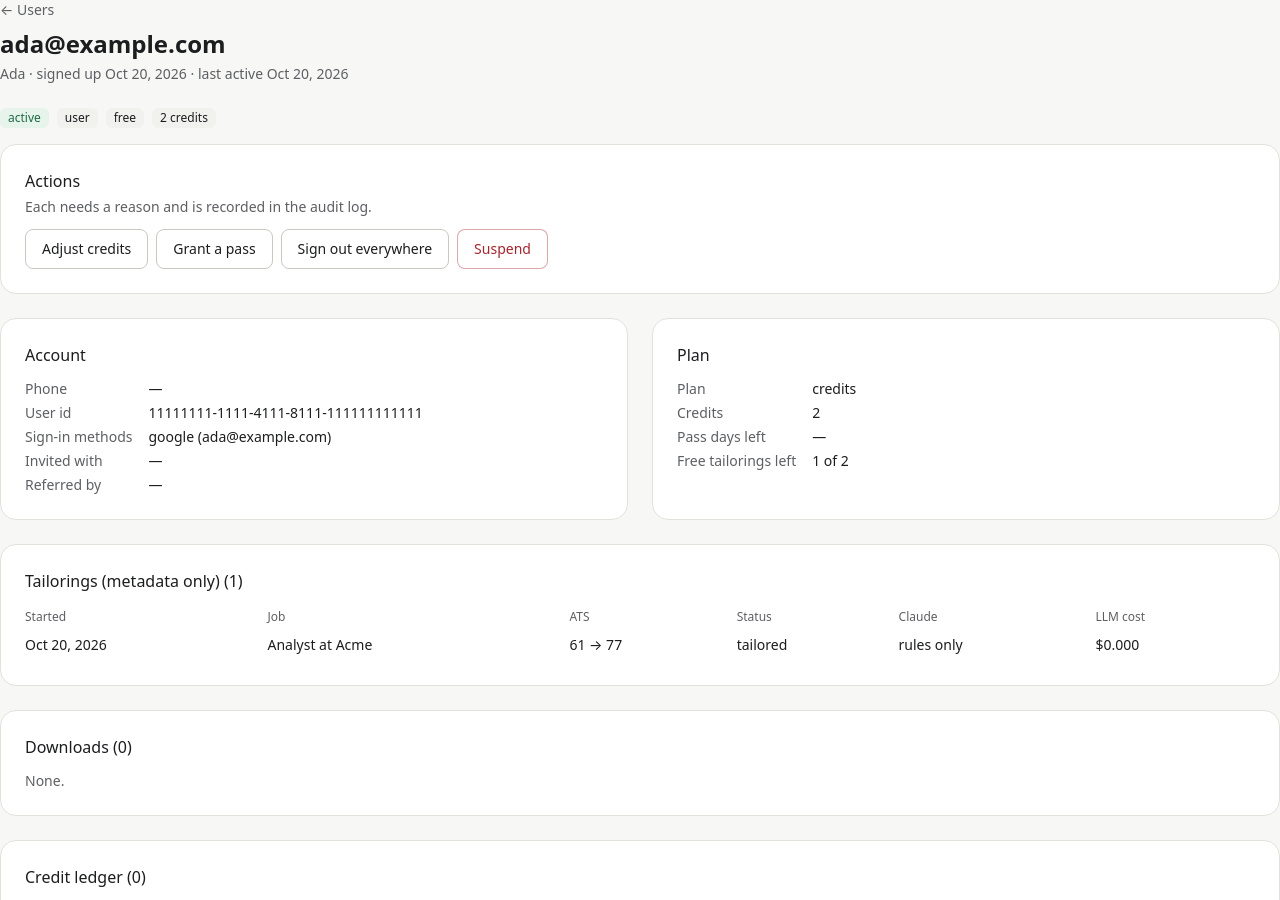
Test case: users › adjusts credits with a reason
Expected: the text "Analyst at Acme" is shown, [268,629,570,661]
Expected: the text "61 → 77" is shown, [570,629,737,661]
Step 1. Click the button "Adjust credits" → point(87, 249), box [25,229,148,269]
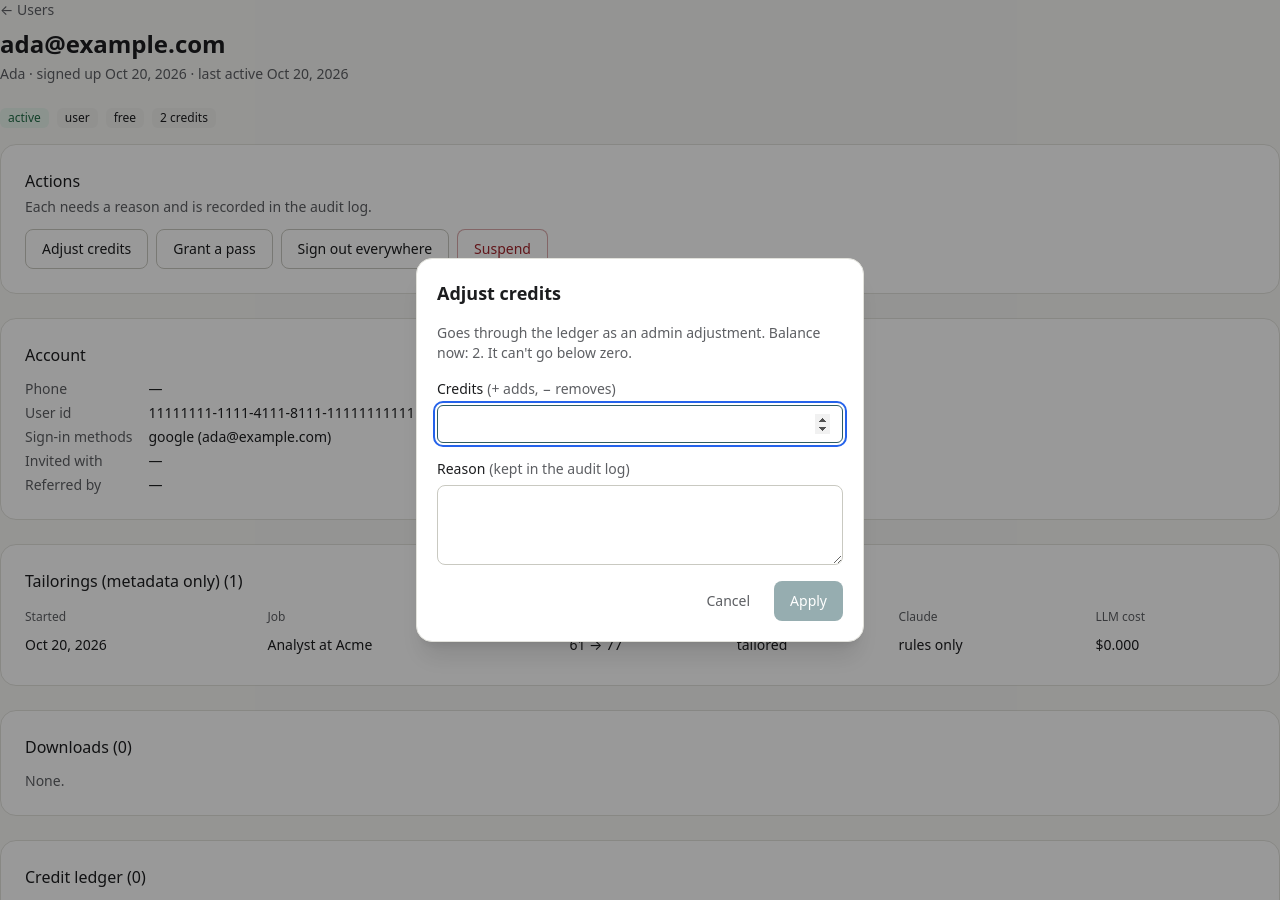
Step 2. Type "5" into the number field labelled "Credits(+ adds, − removes)" → point(640, 424), box [437,405,843,443]
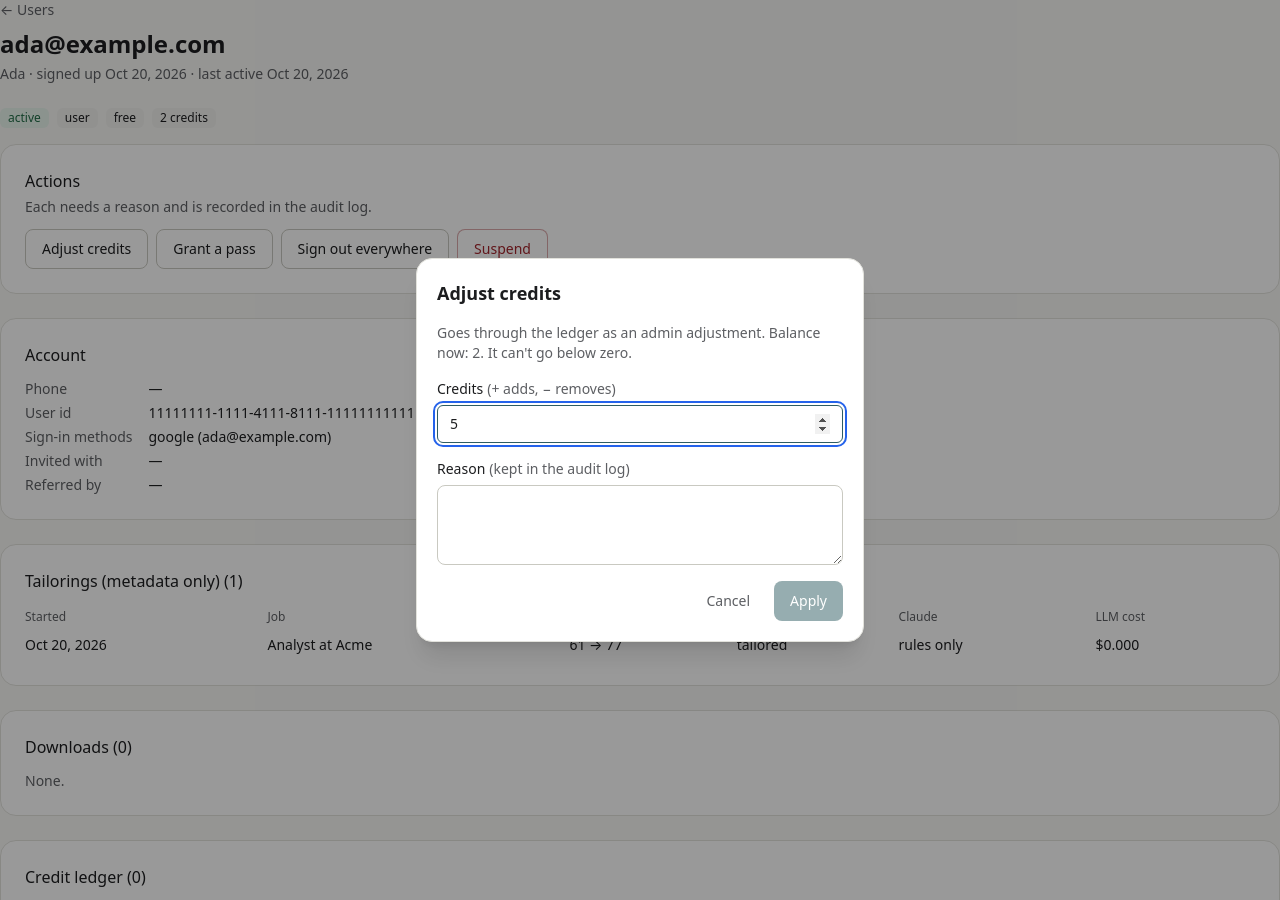
Step 3. Type "goodwill" into the text box labelled "Reason(kept in the audit log)" → point(640, 525), box [437,485,843,565]
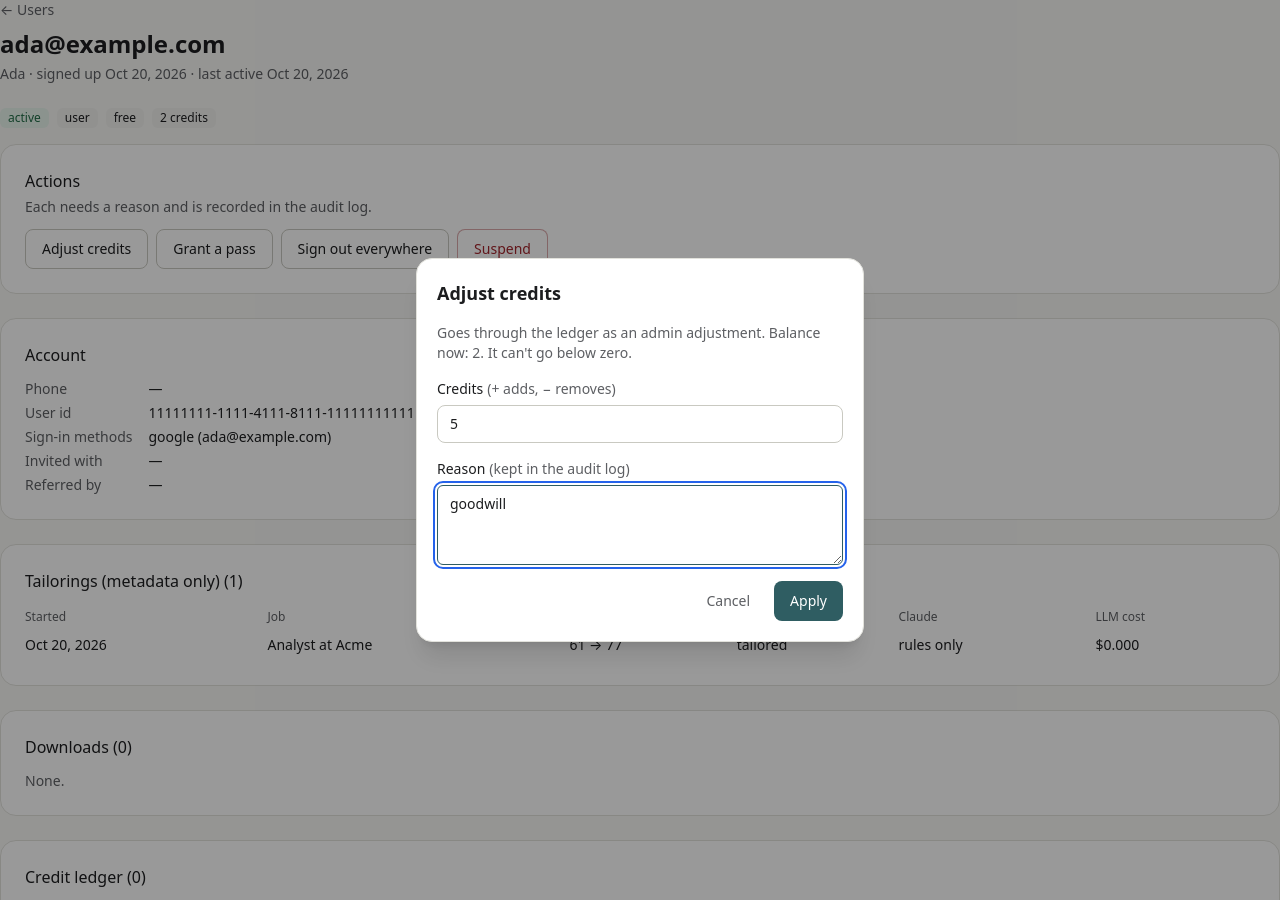
Step 4. Click the button "Apply" → point(809, 601), box [774,581,843,621]
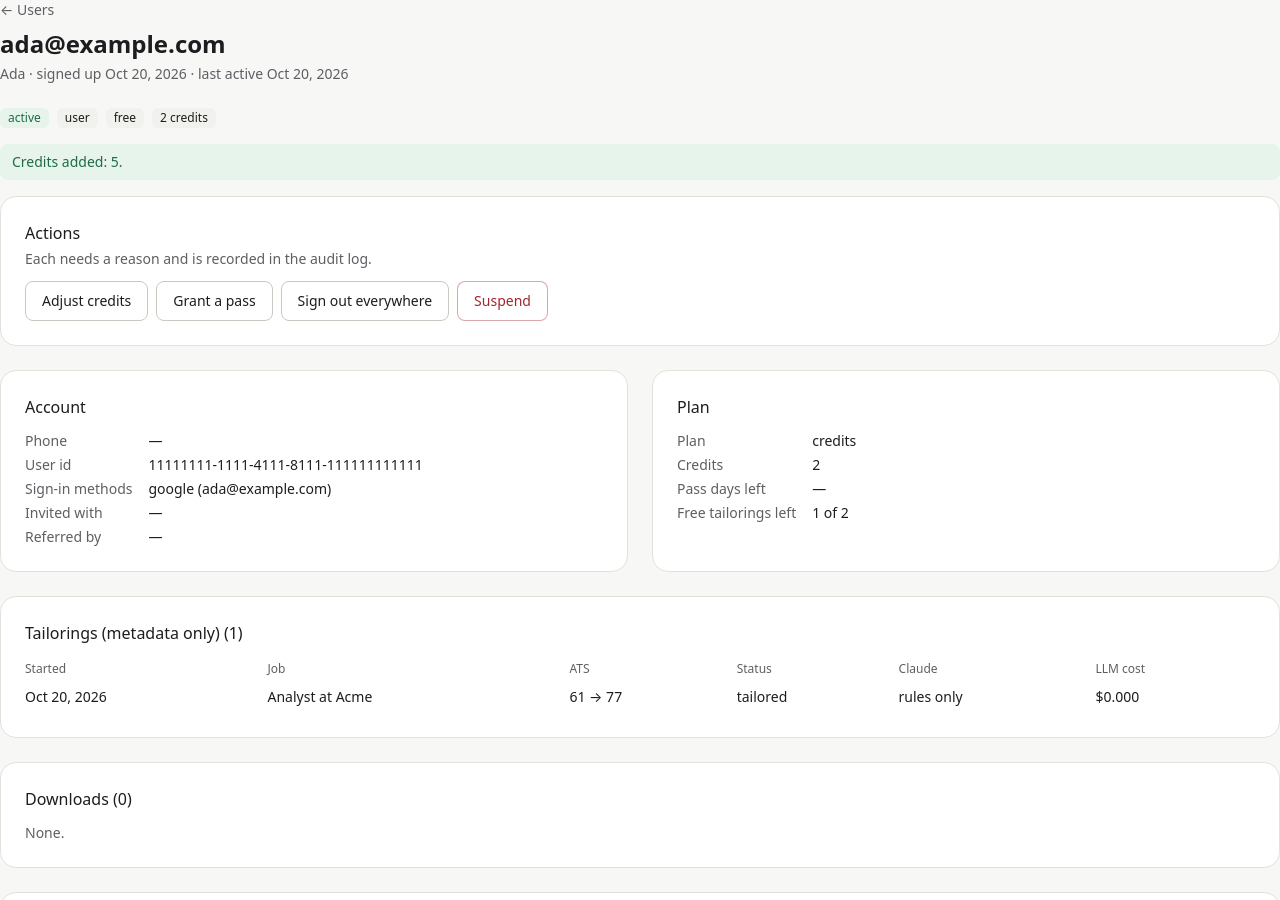
Expected: the message reads "Credits added: 5.", [12,152,123,171]
